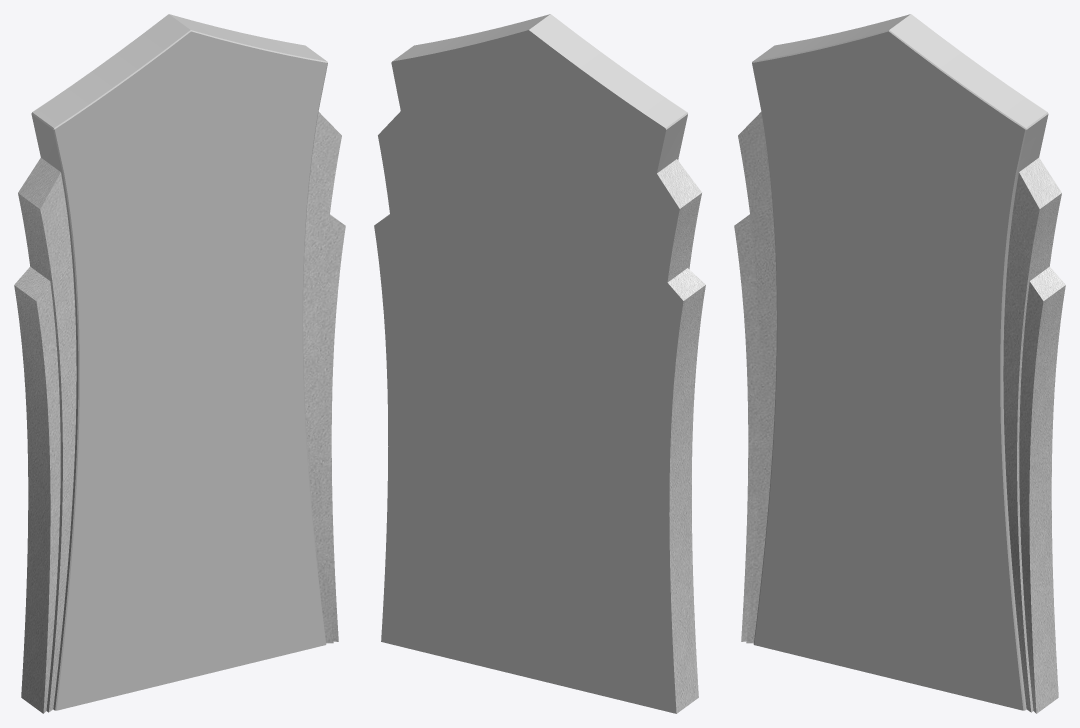
File: cn25b9d1fefa_tkf.glb
3 renders of one model, left to right at view 1: azimuth 30°, elevation 25°; view 2: azimuth 150°, elevation 25°; view 3: azimuth 330°, elevation 25°, orthographic.
Visible parts, largest first — view 1: Pam-v-209-2, Pam-v-209-2_2_notexture; view 2: Pam-v-209-2, Pam-v-209-2_2_notexture; view 3: Pam-v-209-2, Pam-v-209-2_2_notexture.
Boxes of the visible parts, bbox=[...] form: Pam-v-209-2: bbox=[31, 14, 327, 710]; Pam-v-209-2_2_notexture: bbox=[14, 112, 345, 713]; Pam-v-209-2: bbox=[374, 14, 687, 713]; Pam-v-209-2_2_notexture: bbox=[377, 159, 705, 713]; Pam-v-209-2: bbox=[752, 14, 1048, 710]; Pam-v-209-2_2_notexture: bbox=[734, 112, 1065, 713].
Size of the model in its own units: 0.4 by 0.8 by 0.05.
1 material, 1 textured.
